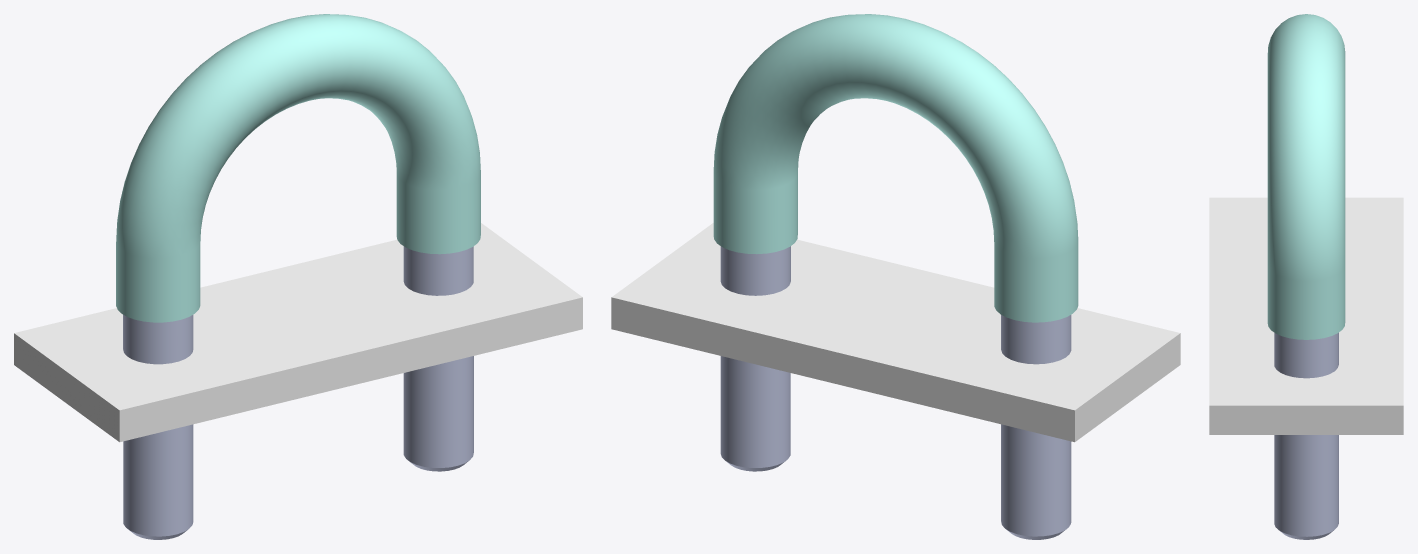
The model's file is u型螺栓管夹.obj.
The picture shows the model from 3 angles, left to right: view 1: azimuth 30°, elevation 25°; view 2: azimuth 150°, elevation 25°; view 3: azimuth 270°, elevation 25°; orthographic projection. The views are drawn at different scales.
Parts seen in each view (by area): view 1: BRep_2, BRep_1; view 2: BRep_2, BRep_1; view 3: BRep_2, BRep_1.
Boxes of the visible parts, x1,y1,x2,y2 form: BRep_2: (14,223,582,539); BRep_1: (116,14,480,322); BRep_2: (611,223,1180,539); BRep_1: (713,14,1078,322); BRep_2: (1209,197,1403,539); BRep_1: (1267,14,1345,339).
Bounding box in the file's own units: 76 × 74 × 30.
